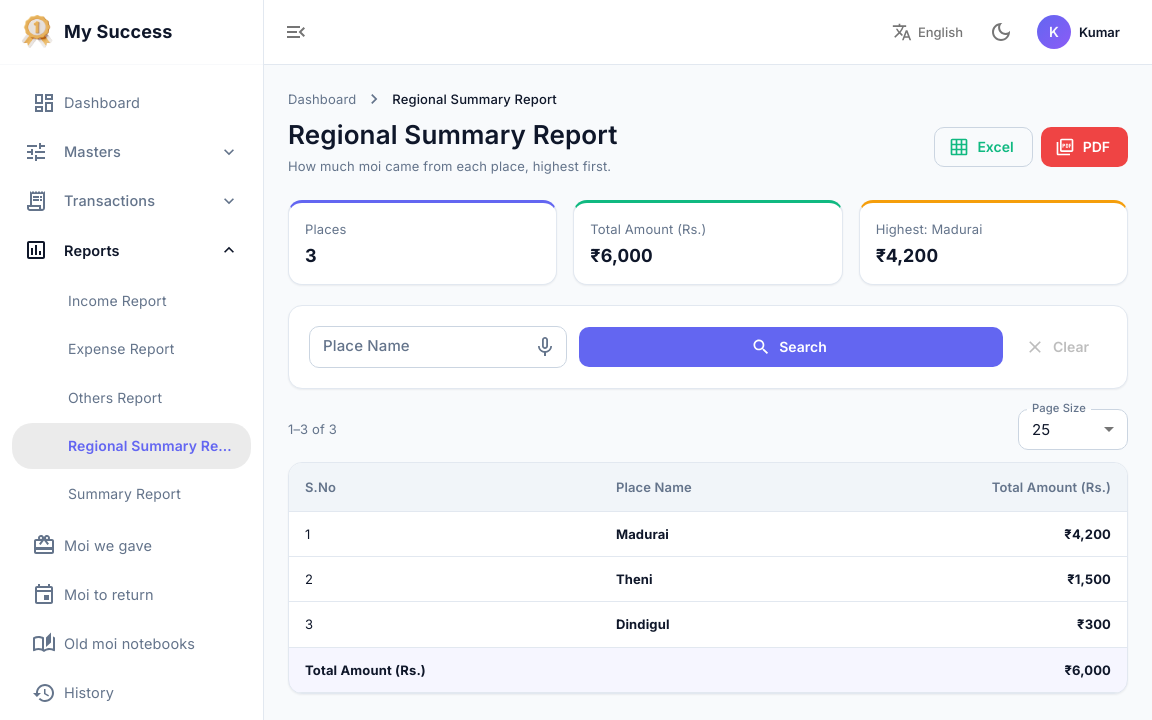
Test case: Reports › location report sorts places by amount and its place search works
Expected: the text "Madurai" is shown, x1=600 y1=512 x2=819 y2=557
Type "then" into the field labelled "Place Name" at (413, 347), box x1=309 y1=326 x2=517 y2=368
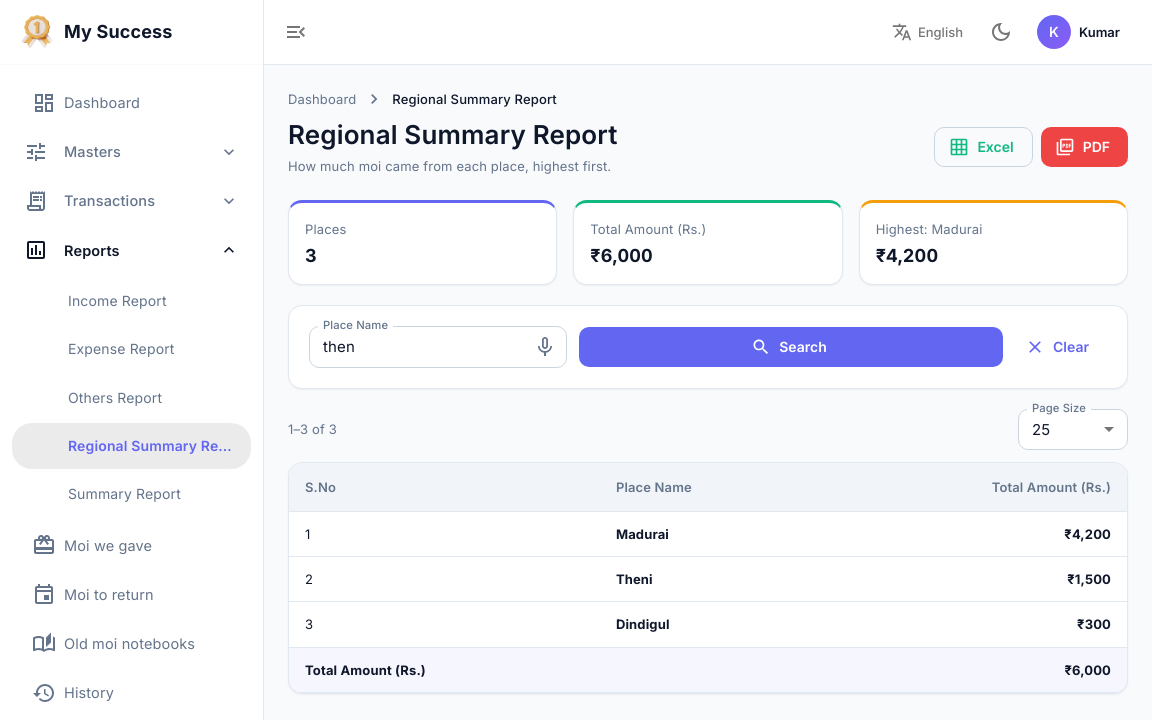
Click the button "Search" at (791, 347), box x1=579 y1=327 x2=1003 y2=367
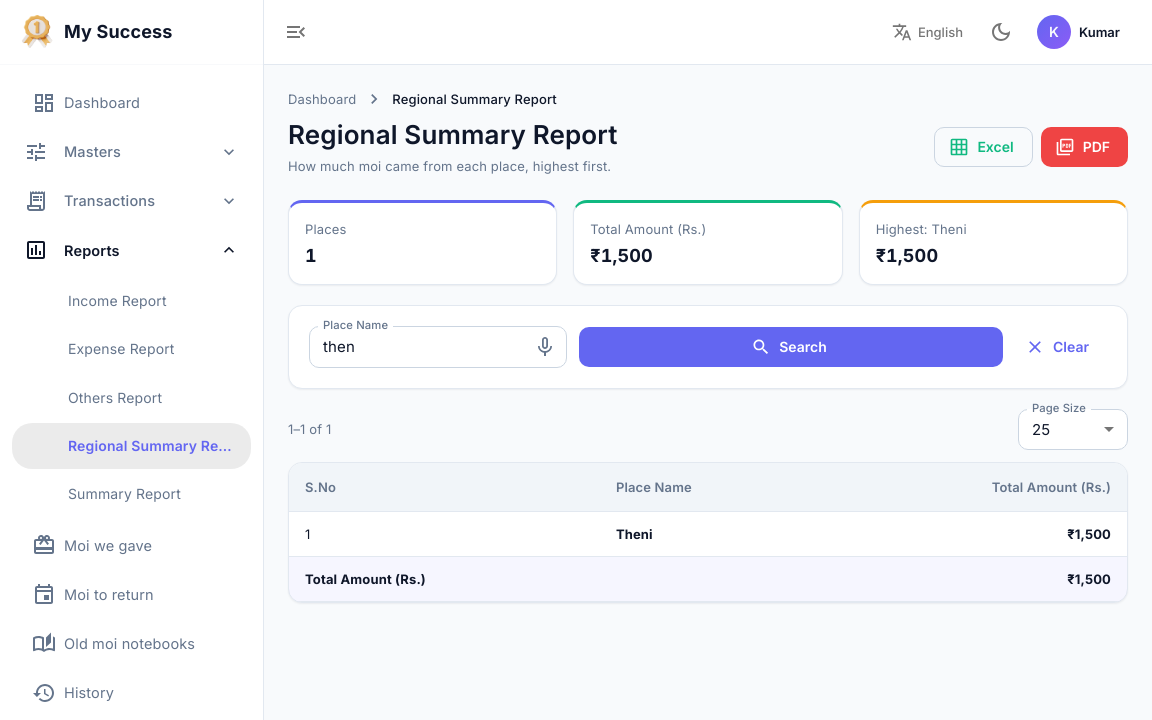
Expected: the text "Madurai" is gone
Expected: the text "Theni" is shown, x1=600 y1=512 x2=819 y2=557
